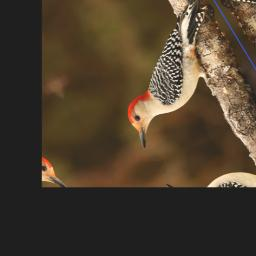Woodpecker: (81, 0, 256, 149)
